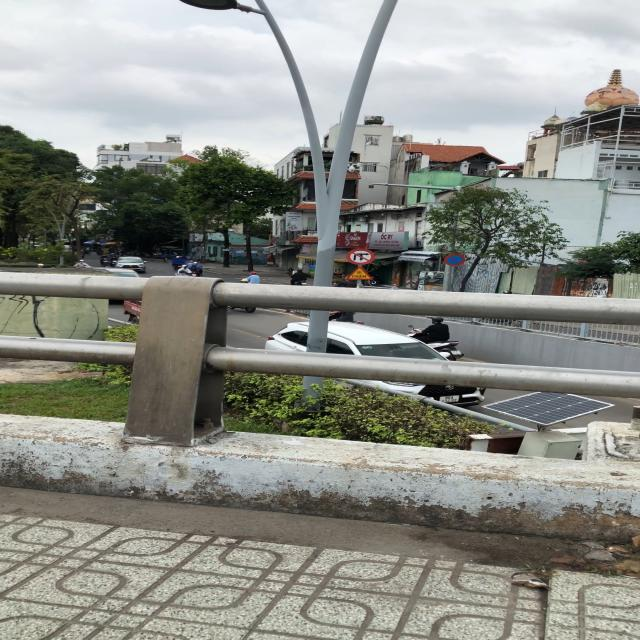Bien bao cam re phai va quay dau: (346, 248, 376, 266)
